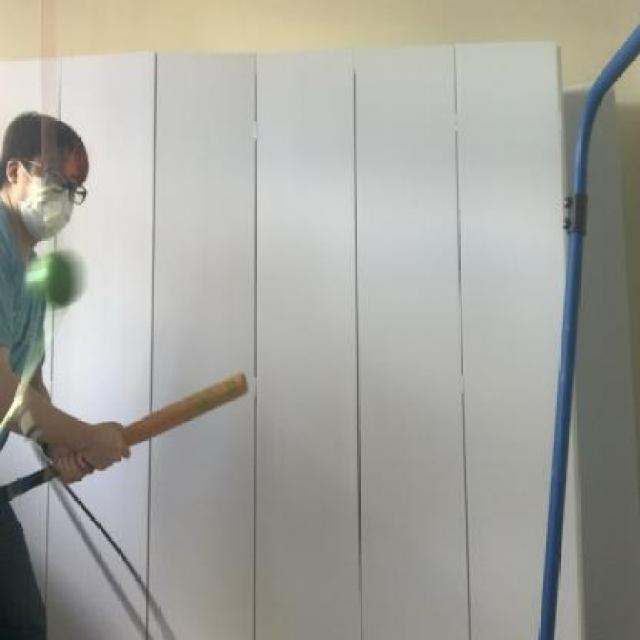baseball: (16, 232, 92, 330)
